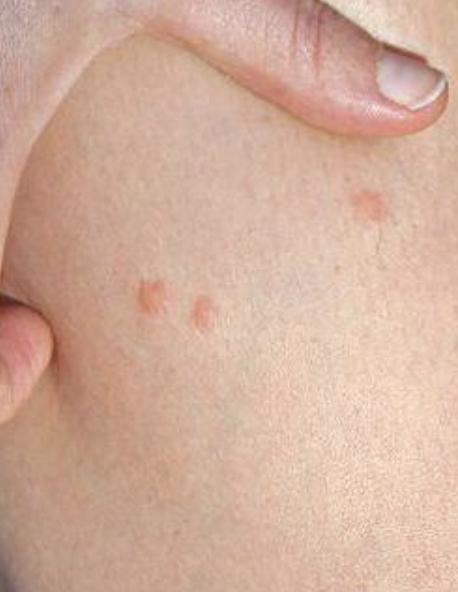Gnat-bites: (347, 189, 396, 234), (127, 278, 177, 319), (188, 294, 222, 333)
